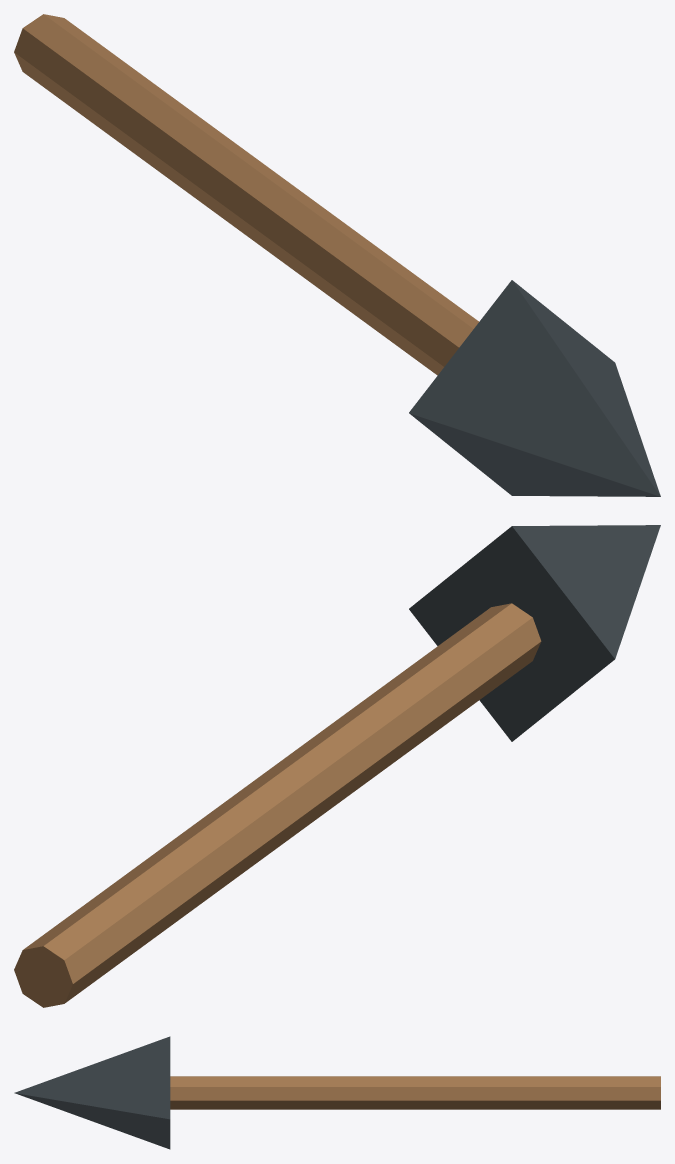
Rendered from harpoon.glb.
3 renders of one model, top to bottom at view 1: azimuth 30°, elevation 25°; view 2: azimuth 150°, elevation 25°; view 3: azimuth 270°, elevation 25°, orthographic. The views are drawn at different scales.
Parts seen in each view (by area): view 1: harpoon; view 2: harpoon; view 3: harpoon.
Boxes of the visible parts, x1,y1,x2,y2 form: harpoon: (14,14,660,496); harpoon: (14,525,660,1007); harpoon: (14,1036,660,1149).
Bounding box in the file's own units: 0.28 × 0.28 × 1.45.
